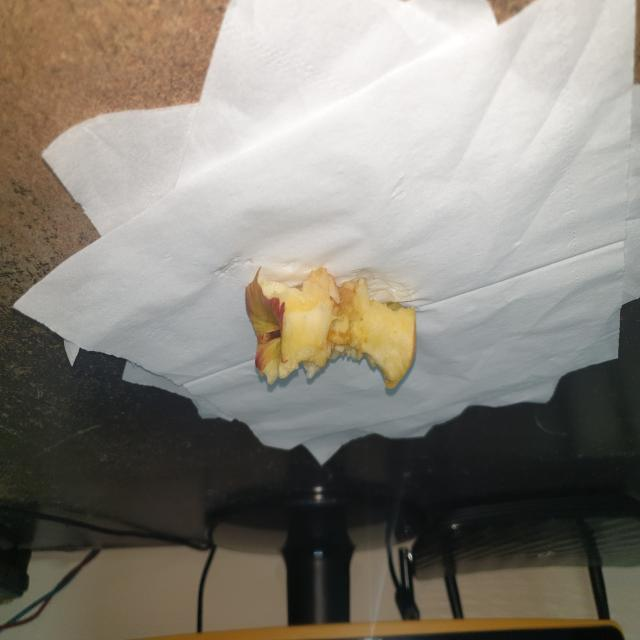apple: (217, 255, 428, 404)
